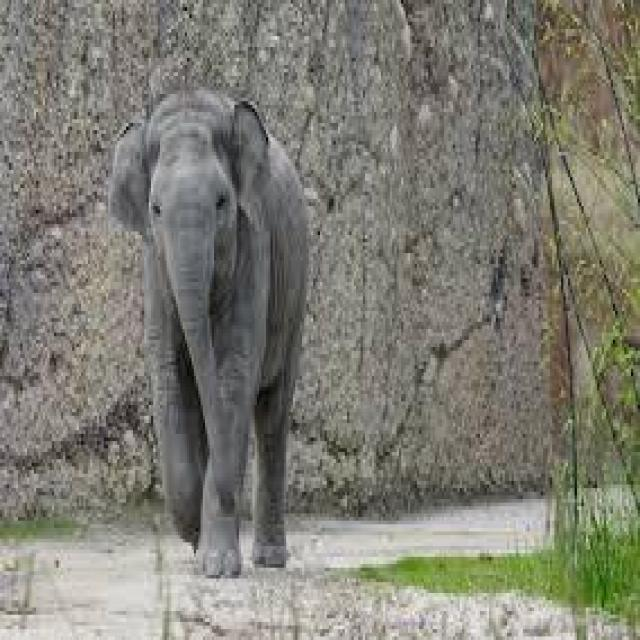Elephant: (108, 87, 309, 575)
